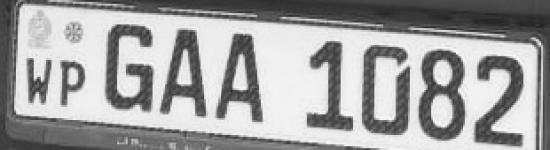0: (359, 41, 414, 142)
1: (302, 34, 359, 139)
2: (470, 47, 530, 149)
8: (412, 40, 470, 146)
A: (211, 25, 269, 133), (159, 21, 210, 123)
G: (100, 19, 158, 119)
P: (56, 56, 88, 114)
W: (22, 53, 55, 109)
